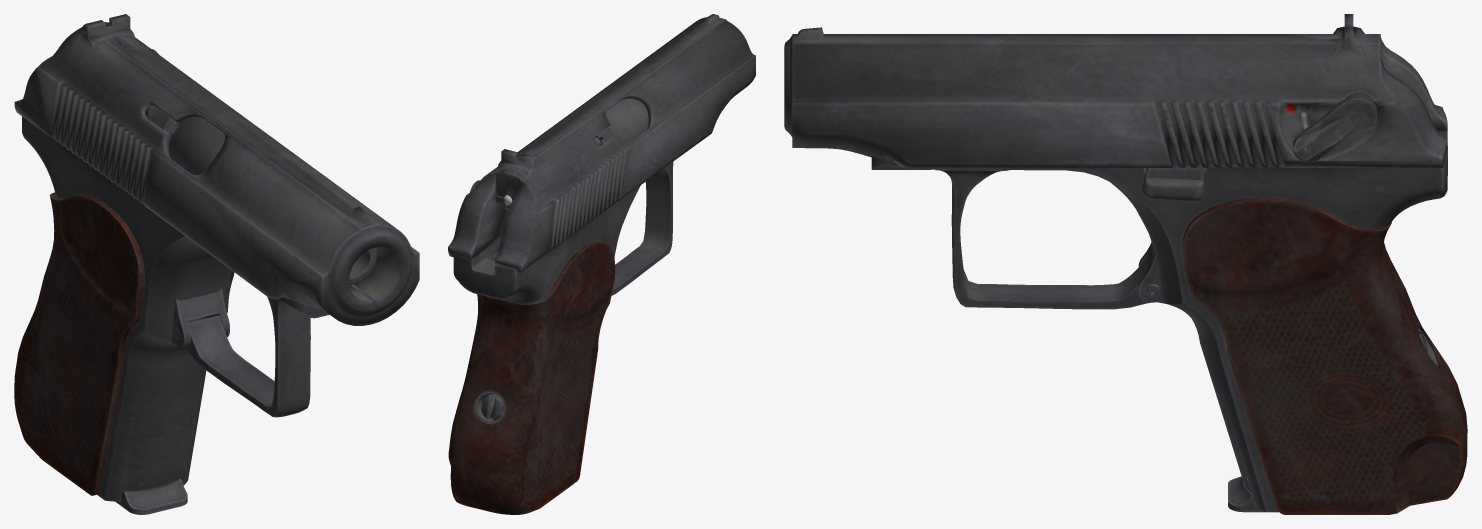
The model's file is 77式手枪.FBX.
3 renders of one model, left to right at view 1: azimuth 30°, elevation 25°; view 2: azimuth 150°, elevation 25°; view 3: azimuth 270°, elevation 25°, orthographic. The views are drawn at different scales.
Visible parts, largest first — view 1: 77式手枪; view 2: 77式手枪; view 3: 77式手枪.
Boxes of the visible parts, <box> form: 77式手枪: <box>14,14,419,514</box>; 77式手枪: <box>448,14,755,514</box>; 77式手枪: <box>784,14,1467,514</box>.
Bounding box in the file's own units: 0.0299 × 0.1201 × 0.1562.
